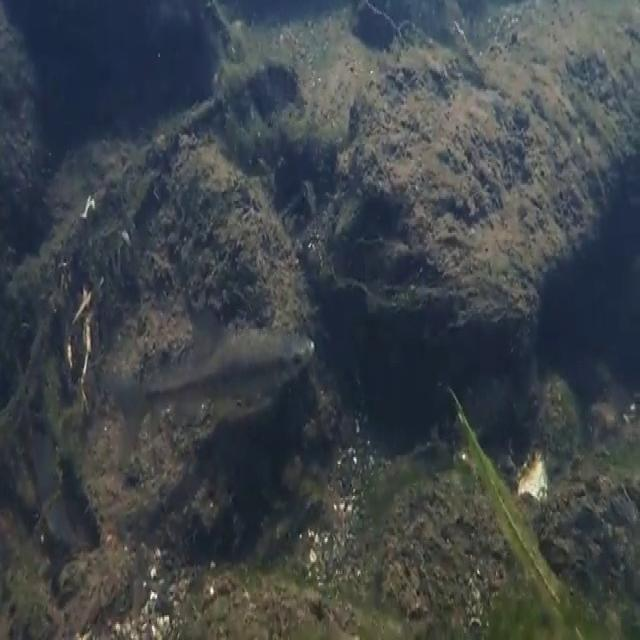Cakil Baligi: (111, 298, 312, 454)
